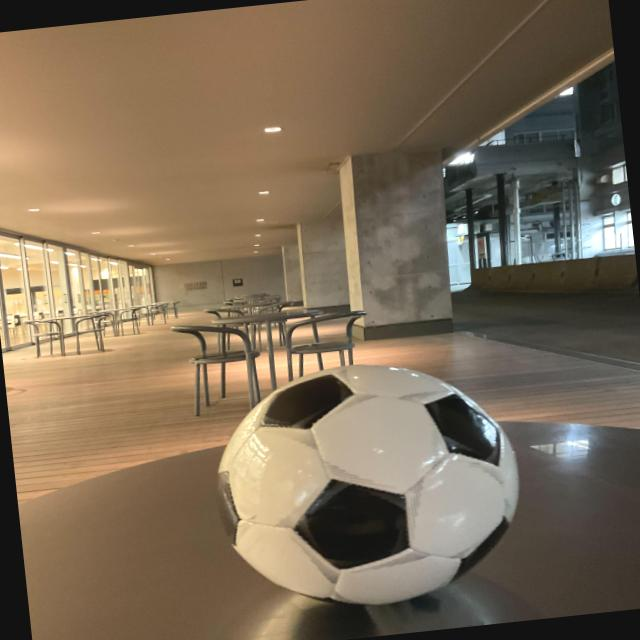Soccer Ball: (200, 349, 524, 622)
